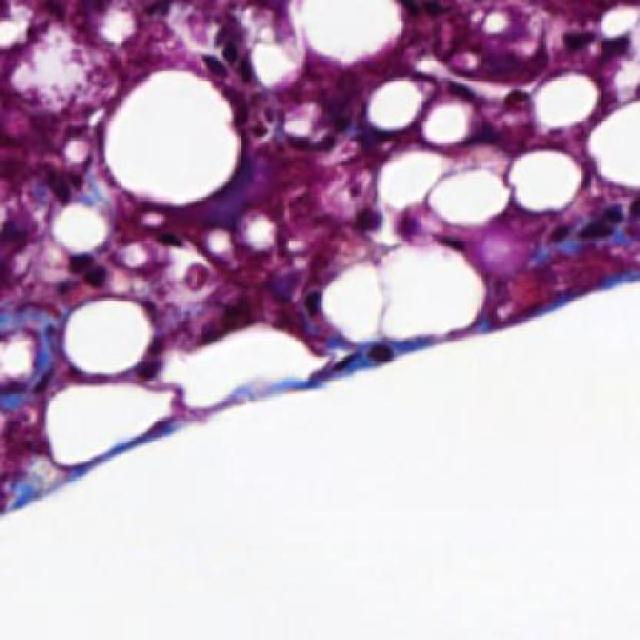inflammation: (412, 36, 564, 101), (541, 197, 640, 257), (191, 22, 260, 93), (56, 248, 120, 294)
